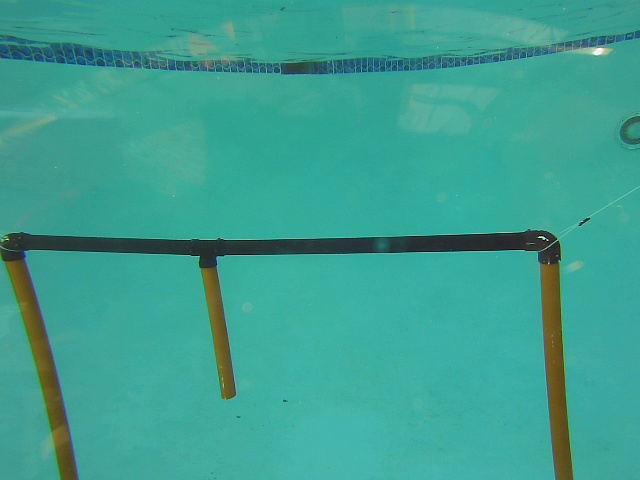Gate: (2, 257, 82, 480), (538, 258, 581, 480), (198, 260, 239, 402)
